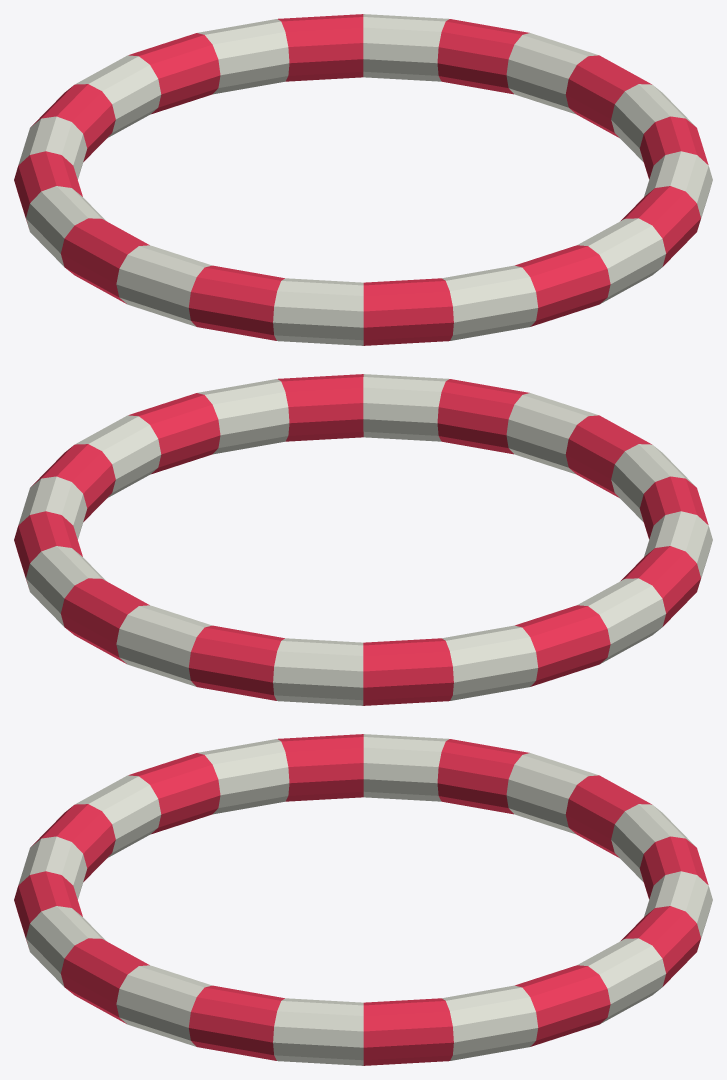
Rendered from Hoop.fbx.
3 views of the same model, one above another, from view 1: azimuth 30°, elevation 25°; view 2: azimuth 150°, elevation 25°; view 3: azimuth 270°, elevation 25° (orthographic).
Parts seen in each view (by area): view 1: Hoop; view 2: Hoop; view 3: Hoop.
Part boxes in pixels (bbox=[...]): Hoop: bbox=[14, 14, 712, 345]; Hoop: bbox=[14, 374, 712, 705]; Hoop: bbox=[14, 734, 712, 1065].
Bounding box in the file's own units: 220 × 20 × 220.
